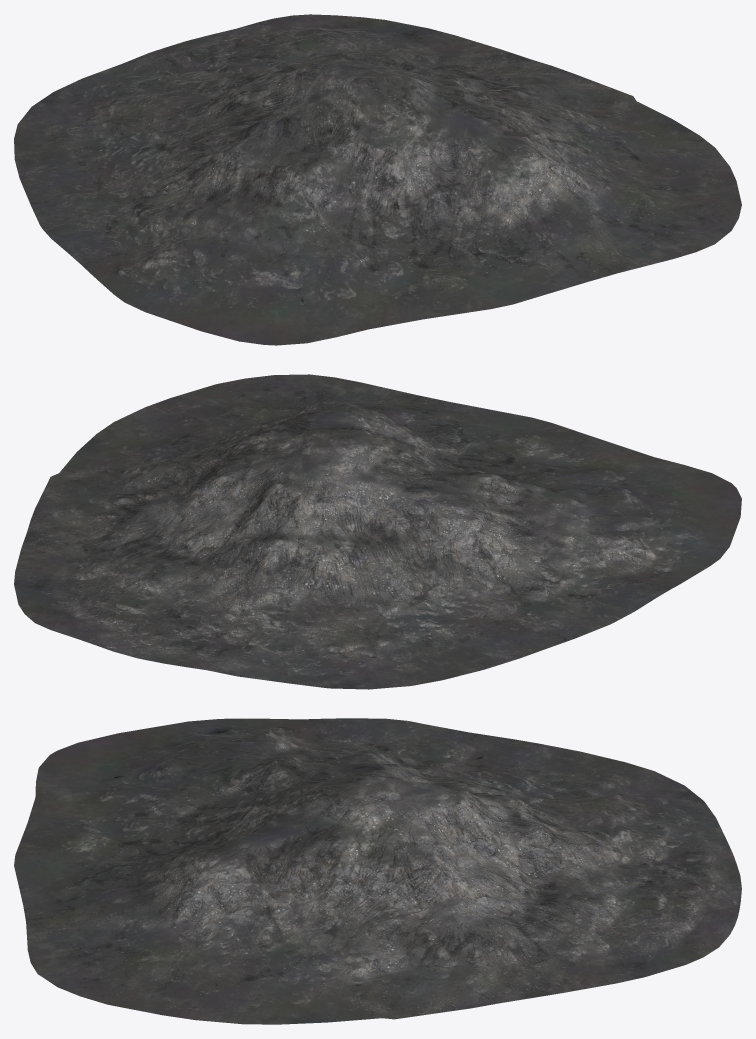
The model's file is Hill_01_4K_GREY.fbx.
3 views of the same model, one above another, from view 1: azimuth 30°, elevation 25°; view 2: azimuth 150°, elevation 25°; view 3: azimuth 270°, elevation 25° (orthographic). The views are drawn at different scales.
Visible parts, largest first — view 1: Hill_01_4K_GREY; view 2: Hill_01_4K_GREY; view 3: Hill_01_4K_GREY.
Part boxes in pixels (bbox=[...]): Hill_01_4K_GREY: bbox=[14, 14, 741, 345]; Hill_01_4K_GREY: bbox=[14, 374, 741, 689]; Hill_01_4K_GREY: bbox=[14, 718, 741, 1024].
Bounding box in the file's own units: 479 × 72.97 × 482.
1 material, 1 textured.
